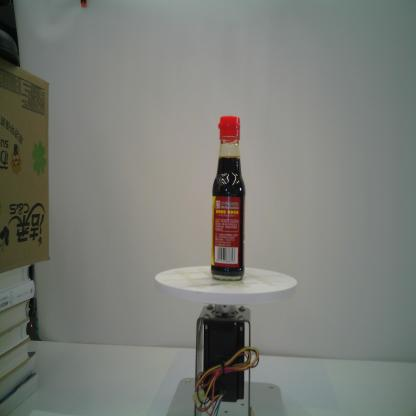Seasoner: (210, 114, 246, 282)
